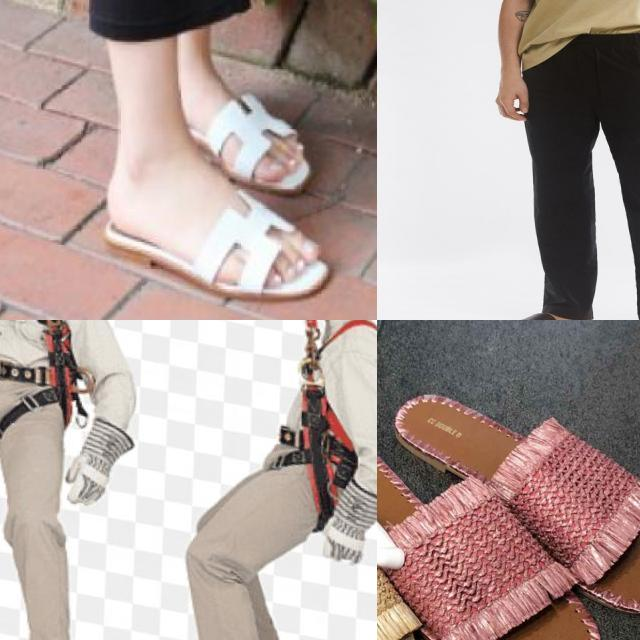Harness: (300, 379, 359, 532), (0, 320, 81, 426)
Sandals: (377, 366, 640, 640), (85, 110, 340, 306), (496, 309, 599, 320)
